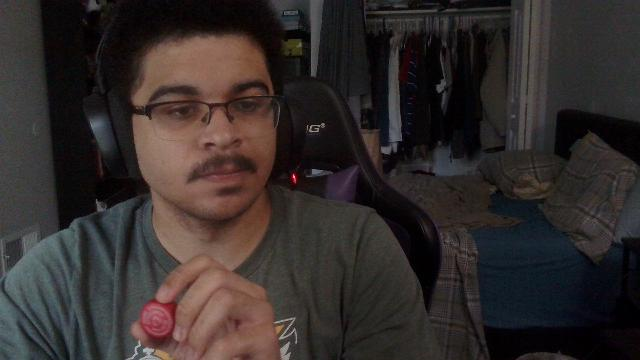cap: (140, 298, 178, 338)
